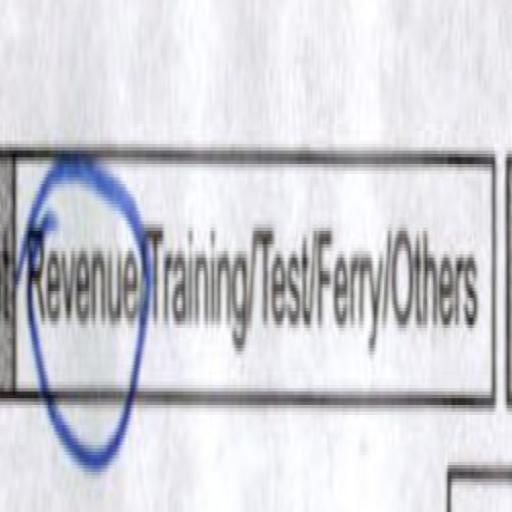check: (21, 83, 148, 512)
